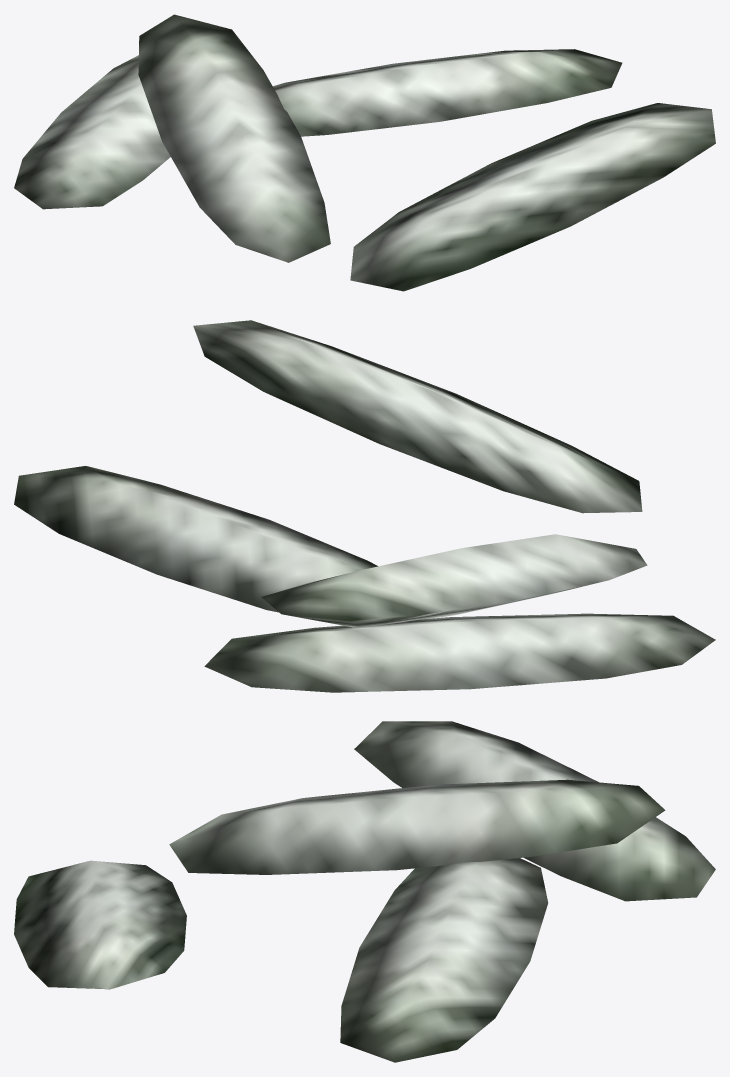
The model's file is KM_SEEDS_12.glb.
3 views of the same model, one above another, from view 1: azimuth 30°, elevation 25°; view 2: azimuth 150°, elevation 25°; view 3: azimuth 270°, elevation 25° (orthographic). The views are drawn at different scales.
Parts seen in each view (by area): view 1: Mesh; view 2: Mesh; view 3: Mesh.
Boxes of the visible parts, box(x1,y1,x2,y2) form: Mesh: box(14, 14, 715, 291); Mesh: box(14, 320, 715, 692); Mesh: box(14, 721, 715, 1062).
Bounding box in the file's own units: 0.3483 × 0.0488 × 0.3026.
Materials: 1 (1 with a texture image).
